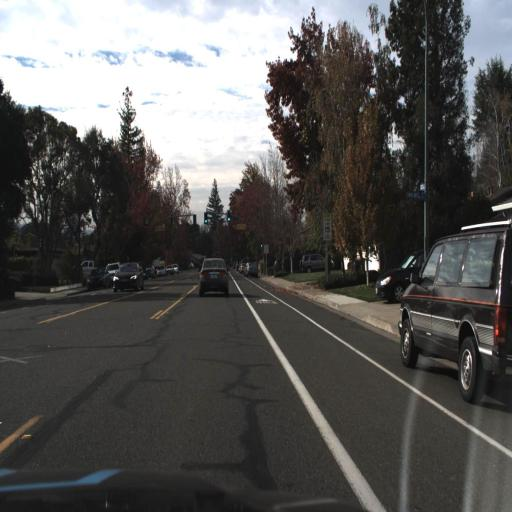car: (398, 218, 512, 407), (374, 248, 426, 299), (196, 253, 231, 300), (110, 260, 146, 295), (298, 248, 335, 278), (107, 259, 125, 284), (243, 258, 261, 279), (142, 262, 159, 281)
trafficLight-Green: (202, 210, 210, 227), (226, 210, 233, 224), (226, 208, 232, 224), (203, 210, 209, 224), (259, 235, 263, 250)
